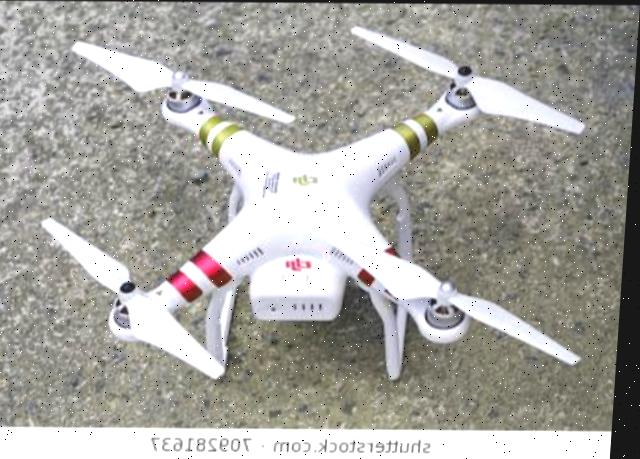drone: (0, 21, 639, 459)
